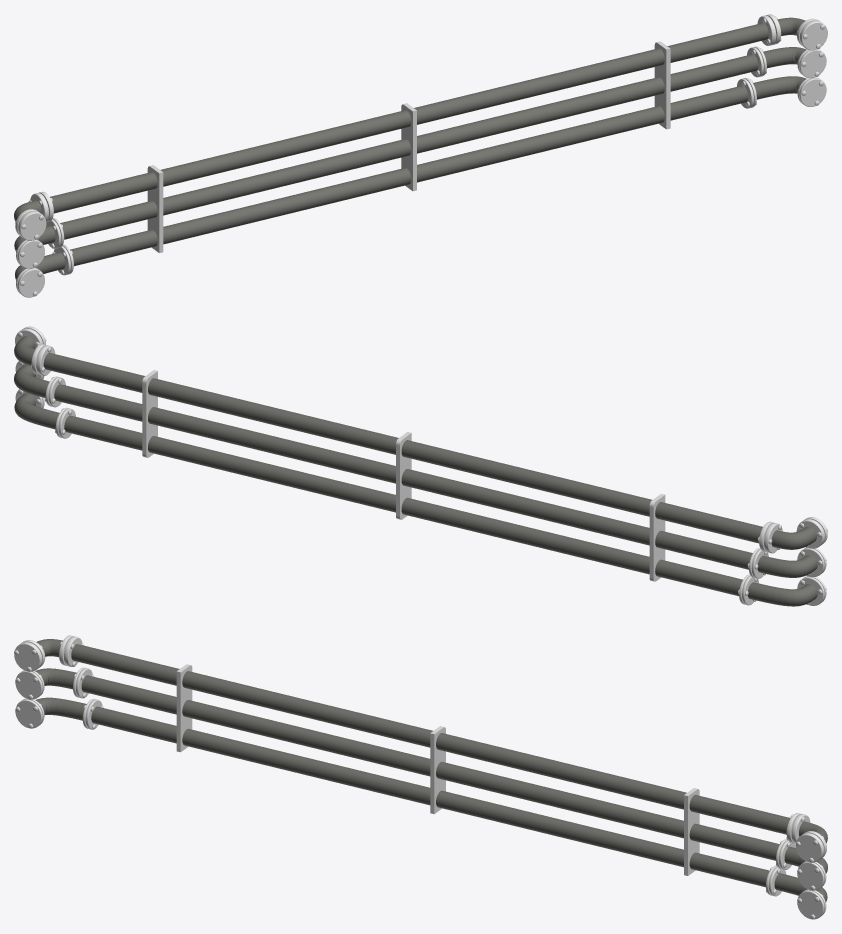
Rendered from TuebriasChicas.fbx.
3 views of the same model, one above another, from view 1: azimuth 30°, elevation 25°; view 2: azimuth 150°, elevation 25°; view 3: azimuth 330°, elevation 25° (orthographic).
Visible parts, largest first — view 1: GeoNodesPipes, GeoNodesPipes.002, GeoNodesPipes.001, Cube.049; view 2: GeoNodesPipes, GeoNodesPipes.002, GeoNodesPipes.001, Cube.049; view 3: GeoNodesPipes, GeoNodesPipes.002, GeoNodesPipes.001, Cube.049.
Part boxes in pixels (x1=…): GeoNodesPipes: x1=14, y1=14, x2=827, y2=240; GeoNodesPipes.002: x1=15, y1=76, x2=826, y2=297; GeoNodesPipes.001: x1=14, y1=46, x2=826, y2=268; Cube.049: x1=147, y1=41, x2=670, y2=253; GeoNodesPipes: x1=14, y1=326, x2=827, y2=553; GeoNodesPipes.002: x1=14, y1=389, x2=826, y2=606; GeoNodesPipes.001: x1=14, y1=361, x2=826, y2=578; Cube.049: x1=142, y1=370, x2=665, y2=581; GeoNodesPipes: x1=14, y1=635, x2=827, y2=862; GeoNodesPipes.002: x1=15, y1=697, x2=827, y2=919; GeoNodesPipes.001: x1=15, y1=667, x2=827, y2=890; Cube.049: x1=176, y1=664, x2=699, y2=875.
Bounding box in the file's own units: 865 × 87.56 × 48.89.
Materials: 2 (1 with a texture image).
